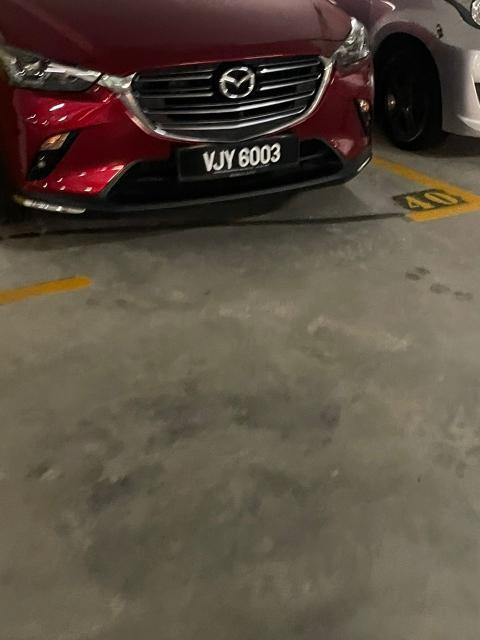License_Plate: (186, 144, 300, 181)
car: (2, 2, 383, 243)
